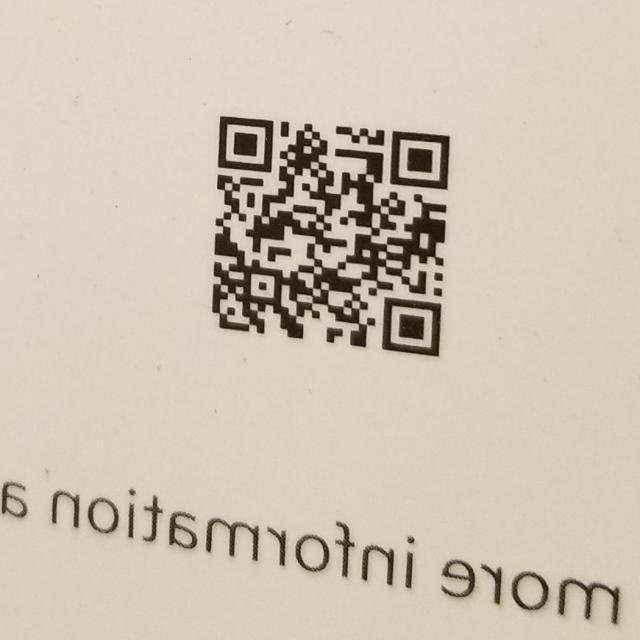qr-code: (192, 96, 471, 372)
